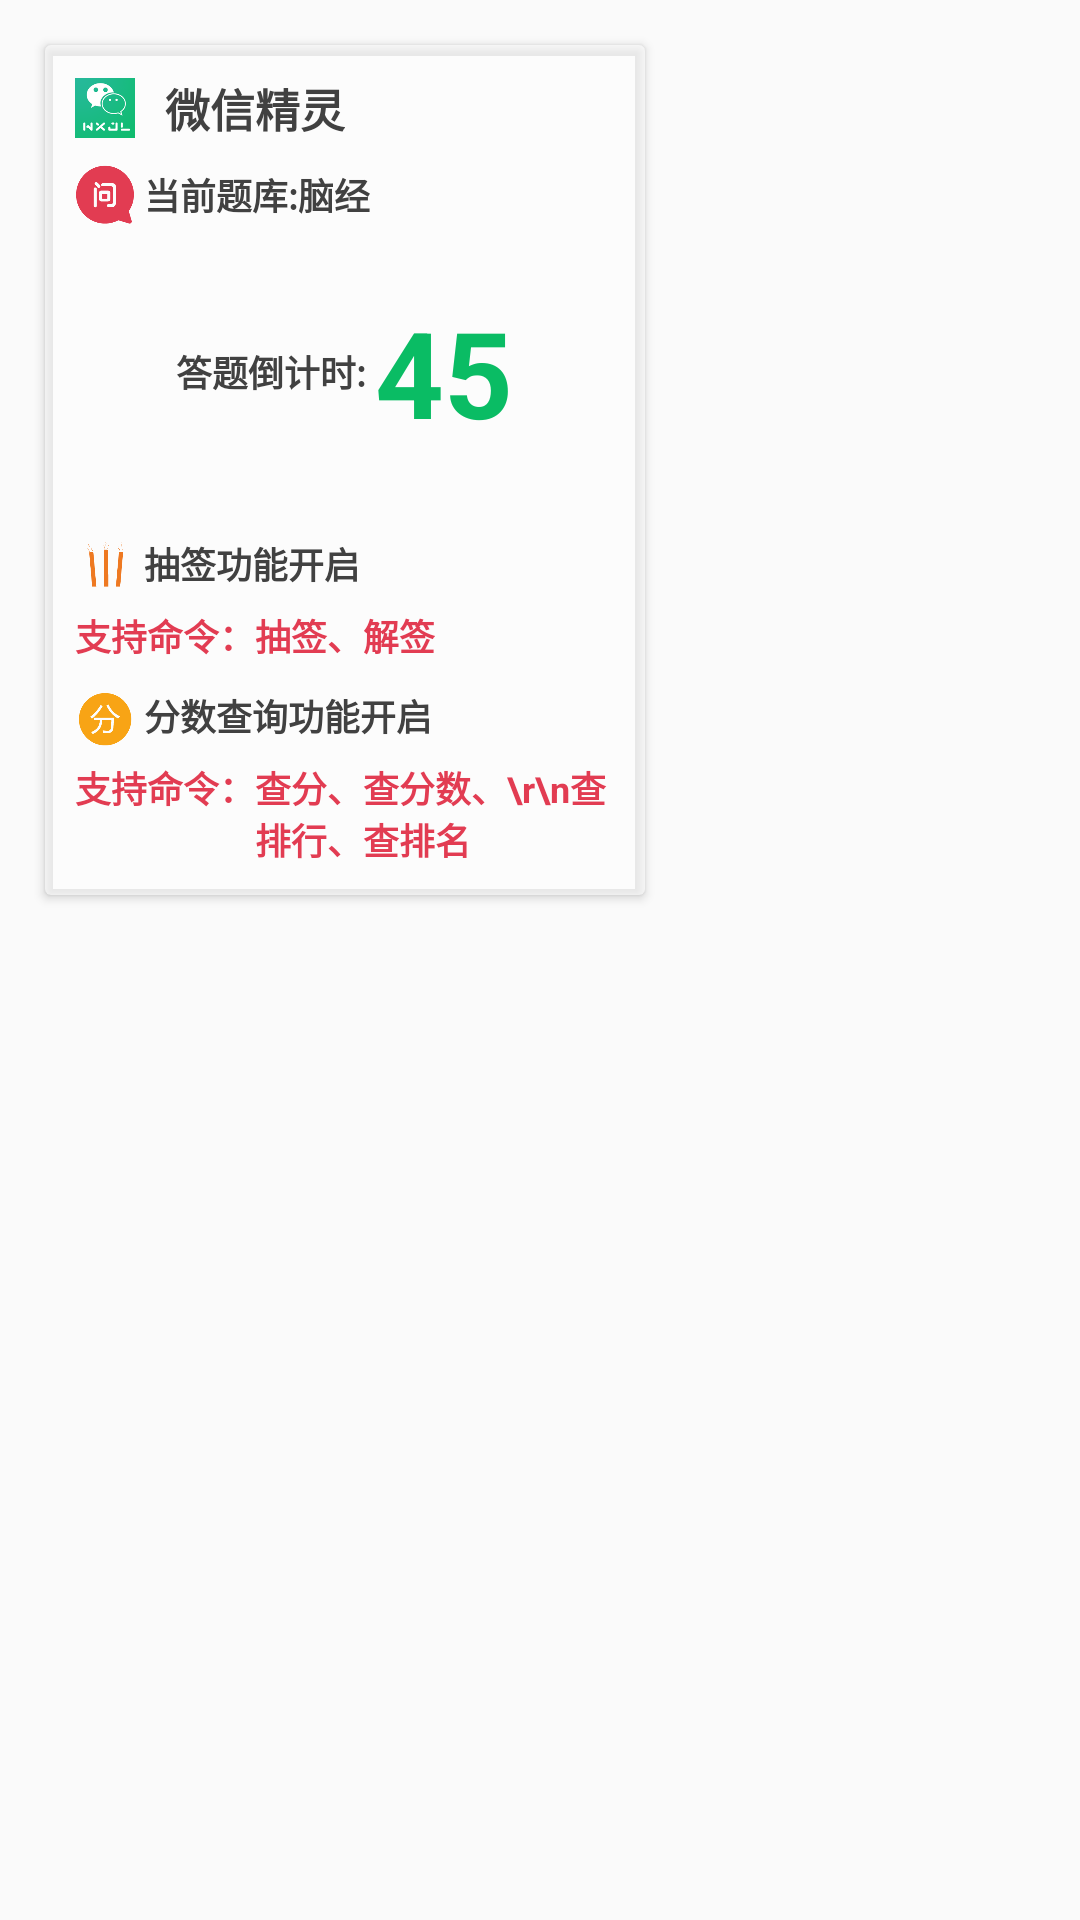

Icon click points for this 1080x1920 phone screenshot, format (x,y):
chouqian sico: (105,564)
